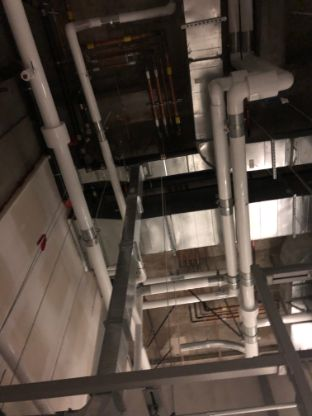Duct: (94, 194, 312, 258), (73, 133, 311, 183), (174, 1, 232, 132)
